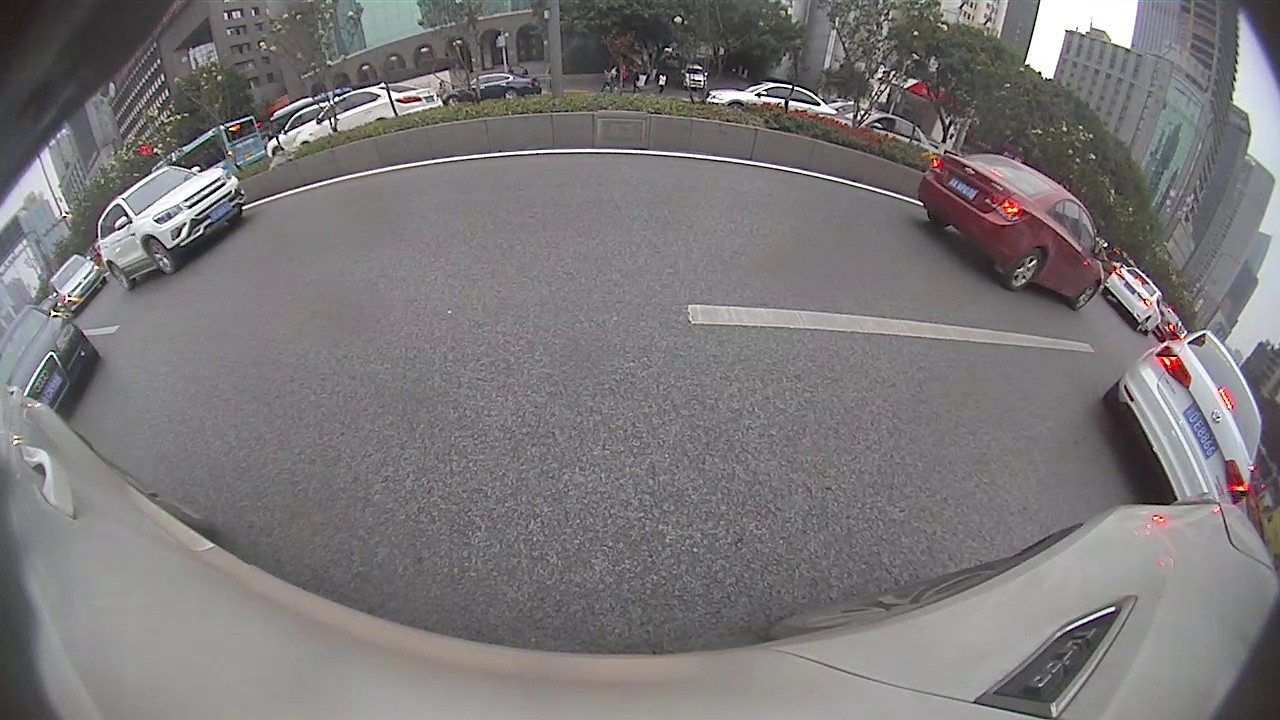car: (1098, 322, 1263, 508), (918, 153, 1106, 308), (96, 164, 247, 290), (2, 295, 102, 414), (1102, 267, 1166, 335), (48, 253, 108, 318)
front: (147, 238, 175, 275), (1073, 283, 1098, 310), (445, 96, 459, 110)
rear: (1005, 249, 1044, 290), (110, 264, 131, 291), (505, 89, 518, 106)
